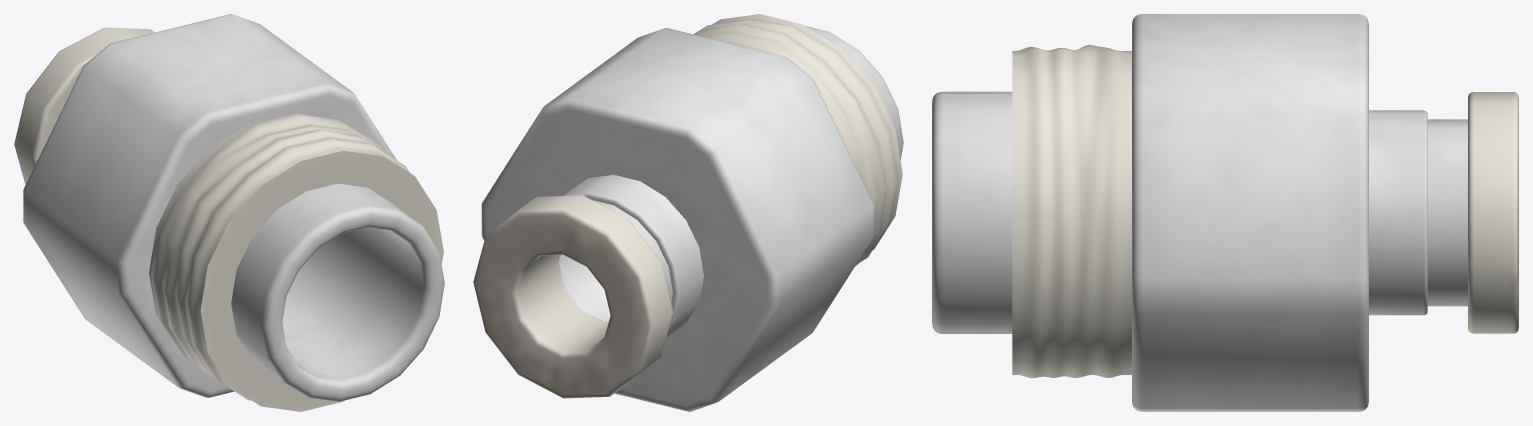
File: ZhiTou02.fbx
3 views of the same model, side by side, from view 1: azimuth 30°, elevation 25°; view 2: azimuth 150°, elevation 25°; view 3: azimuth 270°, elevation 25° (orthographic). The views are drawn at different scales.
Visible parts, largest first — view 1: ZhiTou02; view 2: ZhiTou02; view 3: ZhiTou02.
Part boxes in pixels (bbox=[...]): ZhiTou02: bbox=[14, 14, 444, 411]; ZhiTou02: bbox=[473, 14, 903, 411]; ZhiTou02: bbox=[932, 14, 1518, 411].
Bounding box in the file's own units: 1.29 × 1.19 × 1.91.
